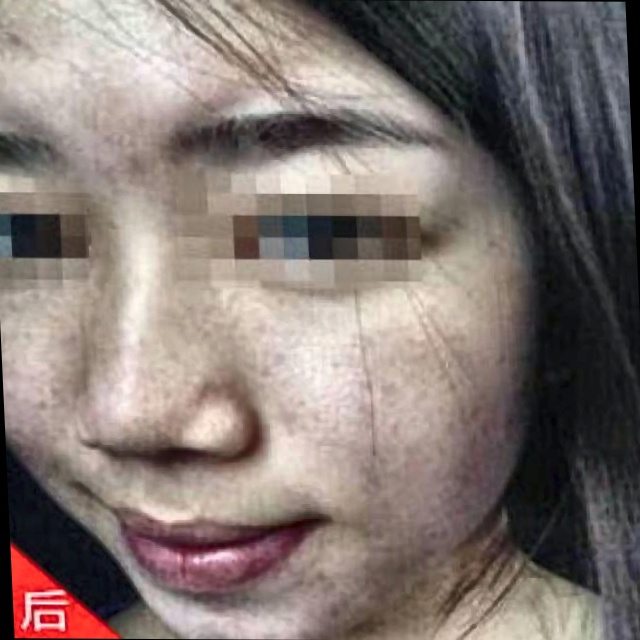comedone: (312, 603, 339, 615)
